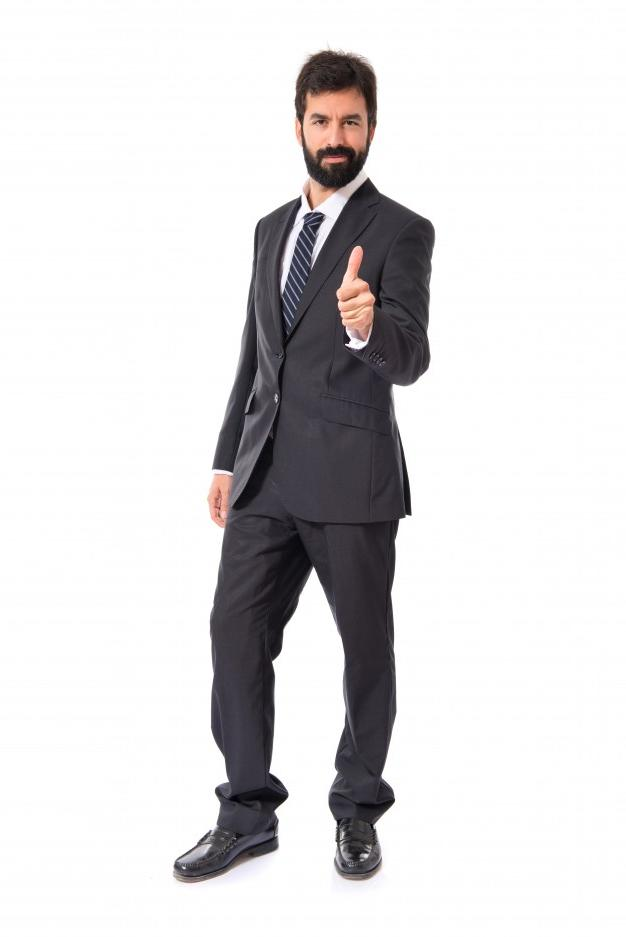thumbsup: (337, 246, 376, 327)
